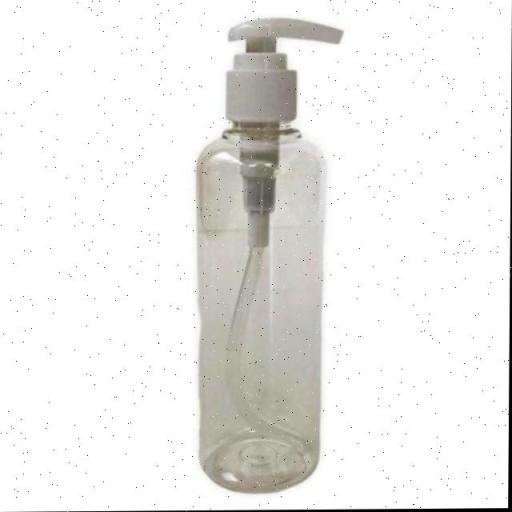plastic: (165, 14, 362, 500)
